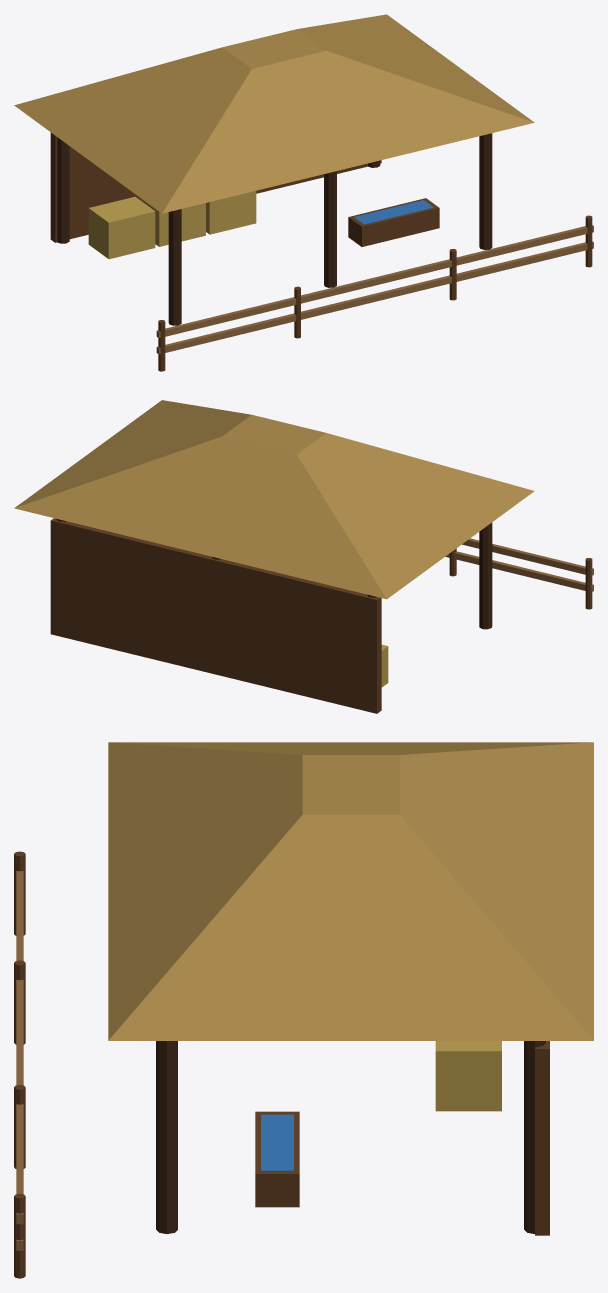
The model's file is SM_GZ_stable_green.fbx.
The picture shows the model from 3 angles, top to bottom: view 1: azimuth 30°, elevation 25°; view 2: azimuth 150°, elevation 25°; view 3: azimuth 270°, elevation 25°; orthographic projection. The views are drawn at different scales.
Parts seen in each view (by area): view 1: SM_GZ_stable_green; view 2: SM_GZ_stable_green; view 3: SM_GZ_stable_green.
Part boxes in pixels (x1,y1,x2,y2): SM_GZ_stable_green: [14, 14, 593, 371]; SM_GZ_stable_green: [14, 400, 593, 713]; SM_GZ_stable_green: [14, 742, 593, 1278].
Size of the model in its own units: 1120 by 480 by 788.
